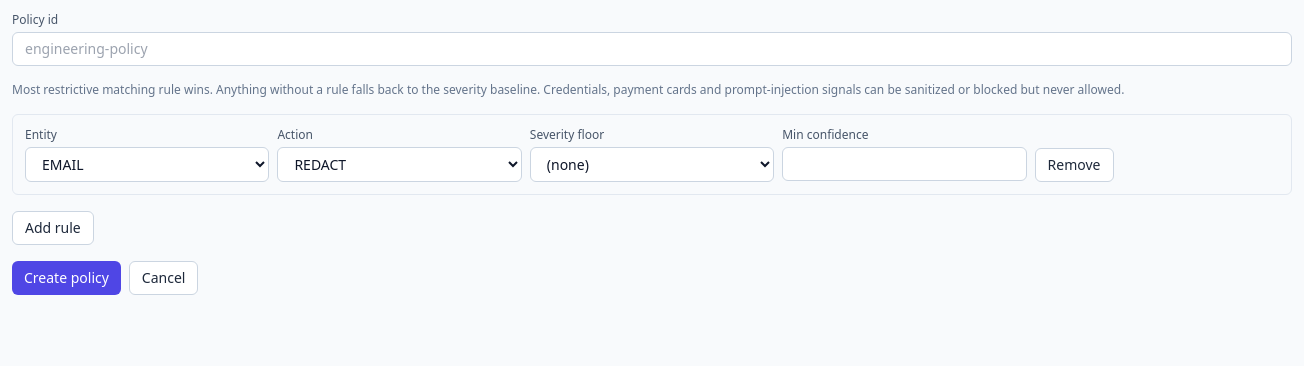
Test: PolicyEditor › submits a valid policy and surfaces server errors
The width and height of the screenshot is (1304, 366).
Type "eng-policy" into the field labelled "Policy id" at (652, 49), box left=12, top=32, right=1292, bottom=66
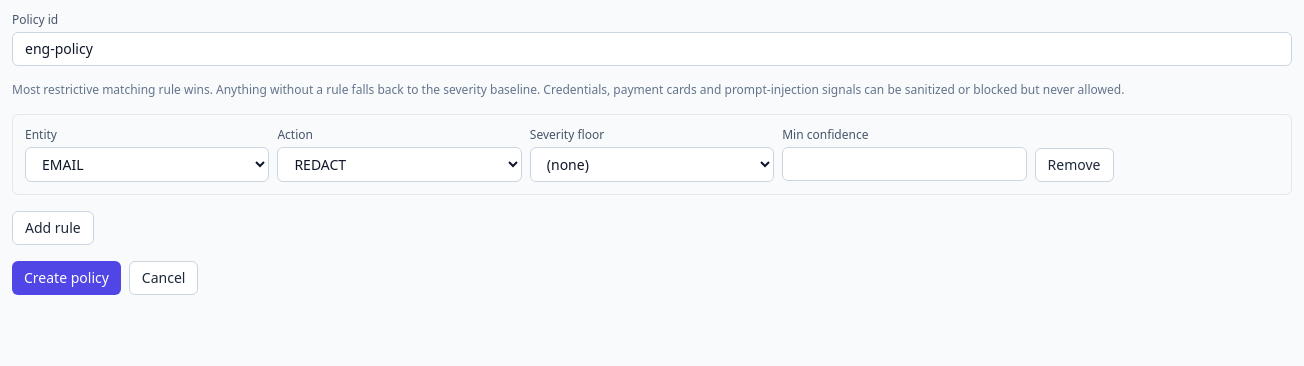
Click the button "Create policy" at (66, 278), box left=12, top=261, right=121, bottom=295
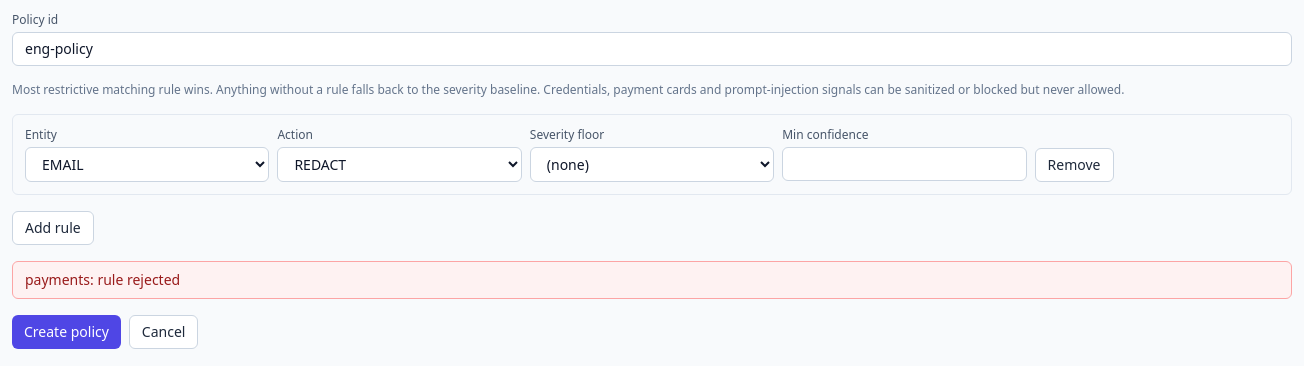
Result: the message reads "payments: rule rejected" at left=25, top=270, right=180, bottom=289
